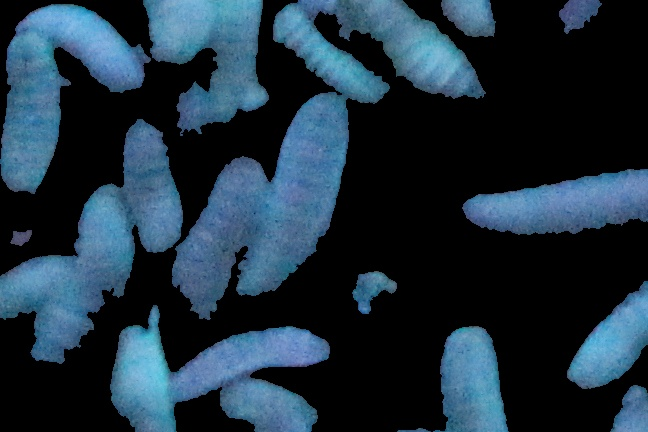larvae: (233, 86, 349, 312), (27, 166, 130, 393), (326, 1, 495, 112), (169, 312, 339, 397), (462, 168, 648, 234), (177, 157, 262, 296), (272, 15, 389, 108), (11, 5, 143, 87), (1, 33, 64, 199), (116, 110, 185, 256), (557, 278, 648, 386), (1, 255, 79, 356), (438, 322, 500, 432), (554, 1, 626, 49)
